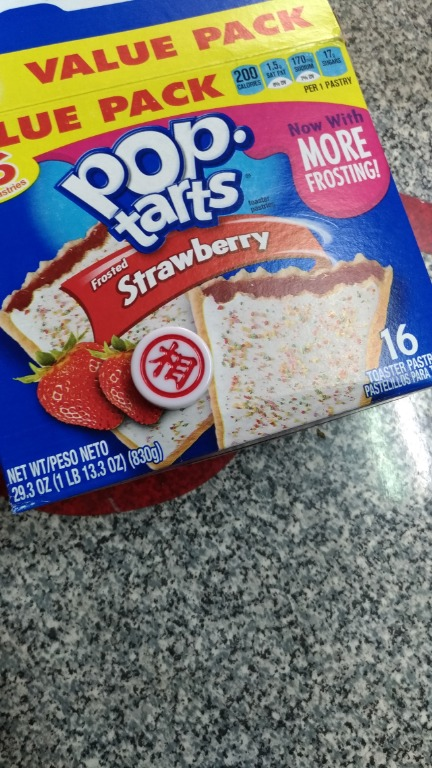r-elephant: (124, 325, 231, 414)
